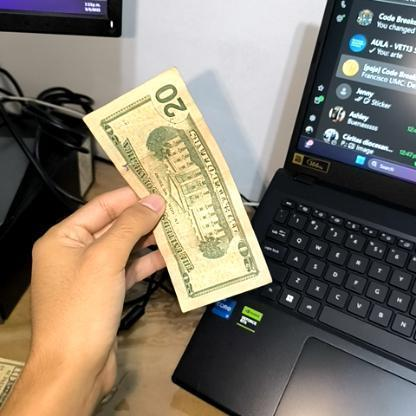twenty-back: (82, 66, 274, 315)
